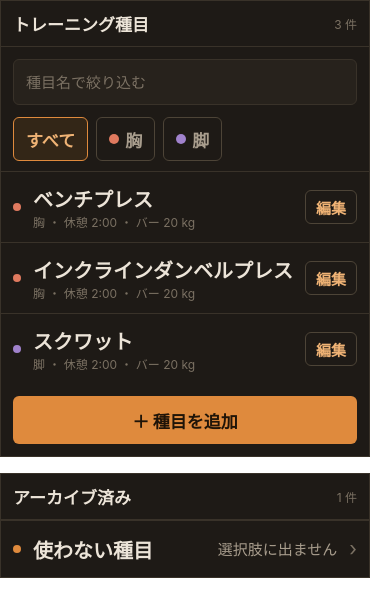
Scenario: 一覧 › 部位で絞り込み、もう一度押すと解除する
The width and height of the screenshot is (387, 595).
Click the text "脚" at (201, 139), box left=192, top=126, right=209, bottom=152
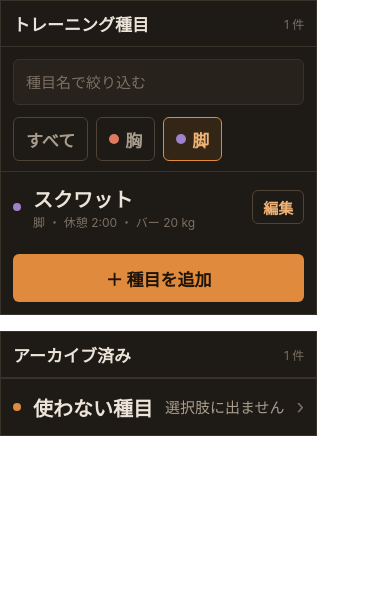
Expected: the text "スクワット" is shown, left=33, top=188, right=133, bottom=212
Expected: the text "ベンチプレス" is gone
Click the text "脚" at (201, 139), box left=192, top=126, right=209, bottom=152
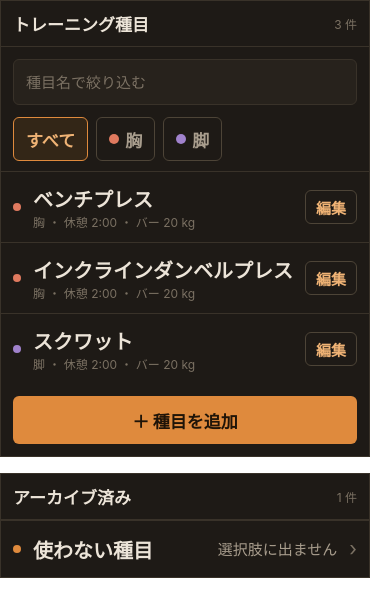
Expected: the text "ベンチプレス" is shown, left=33, top=188, right=153, bottom=212
